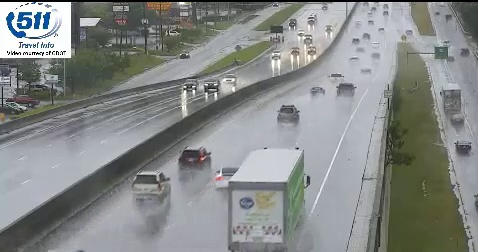car: (132, 171, 170, 198), (179, 147, 209, 171), (215, 168, 241, 188), (276, 106, 300, 124), (337, 83, 354, 97)
small-truck: (229, 149, 305, 251)
